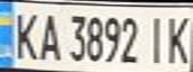2: (121, 11, 145, 64)
3: (63, 10, 87, 63)
8: (84, 11, 106, 63)
9: (103, 12, 124, 64)
A: (33, 8, 63, 62)
I: (142, 11, 169, 65)
K: (6, 7, 42, 61), (160, 11, 193, 65)
